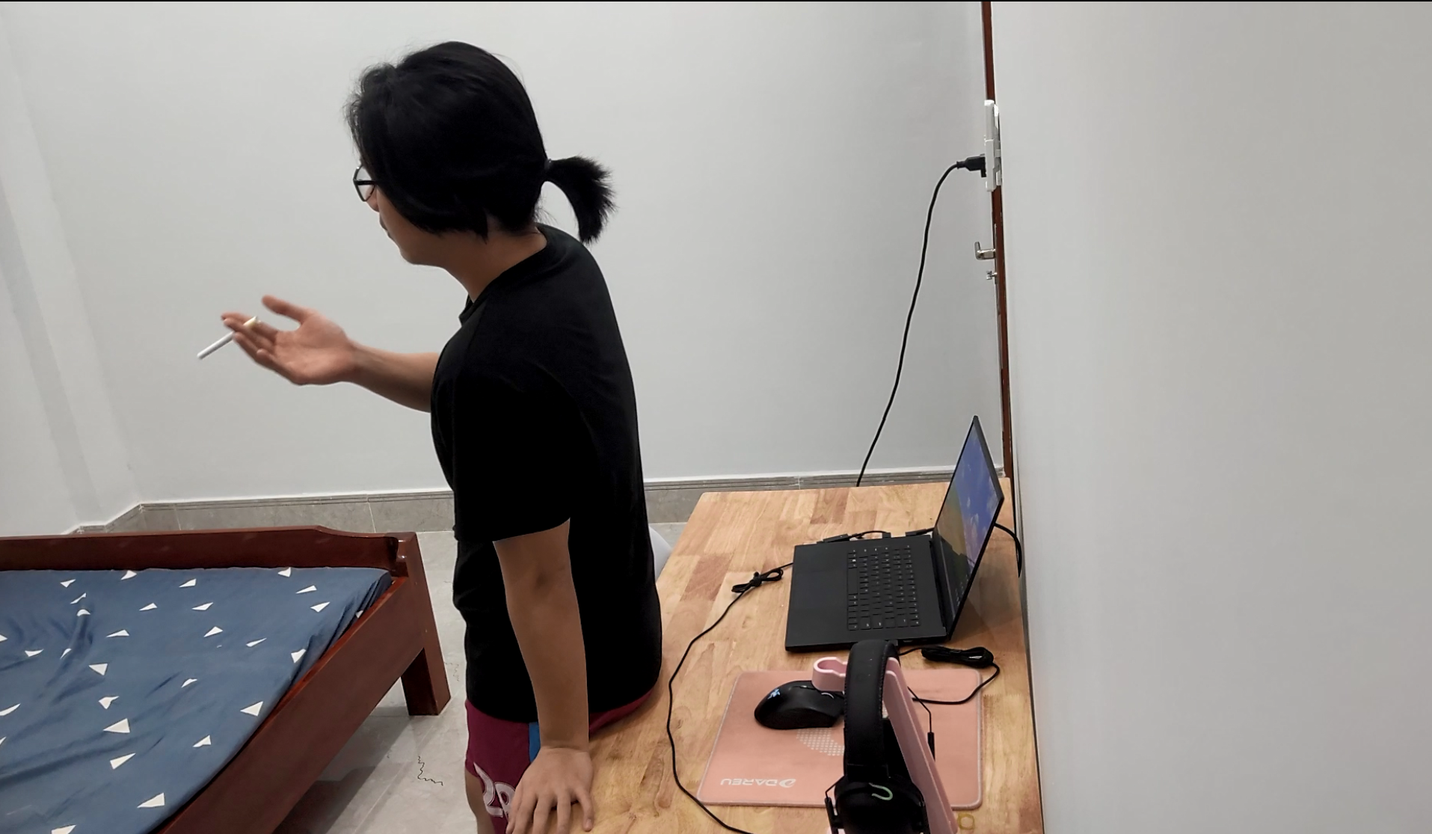cigarette: (197, 316, 262, 368)
person: (245, 0, 676, 834)
